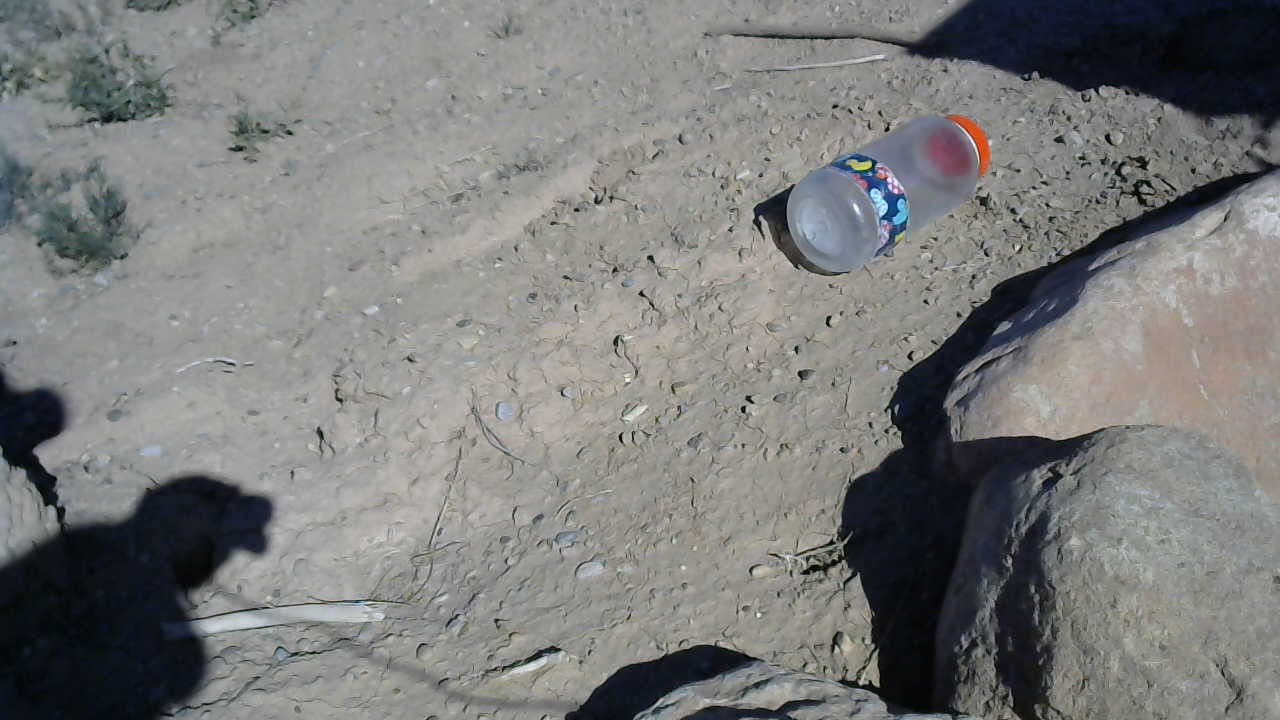bottle: (783, 109, 996, 277)
